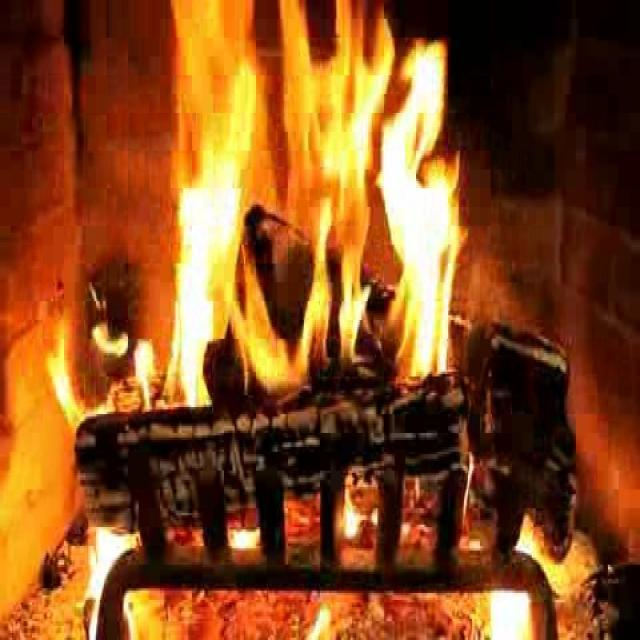Fire: (143, 18, 464, 410)
